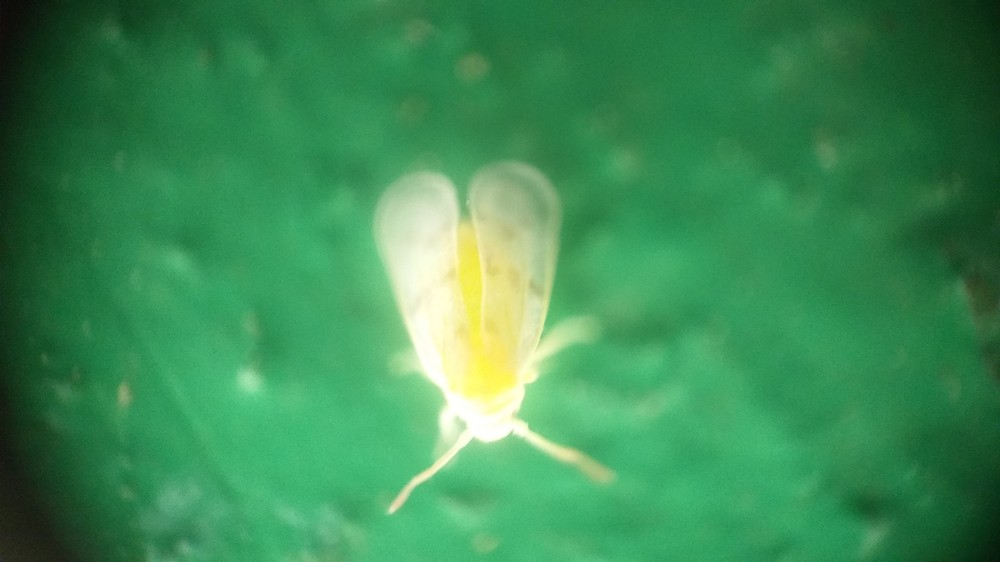Mosca Blanca: (334, 142, 662, 546)
